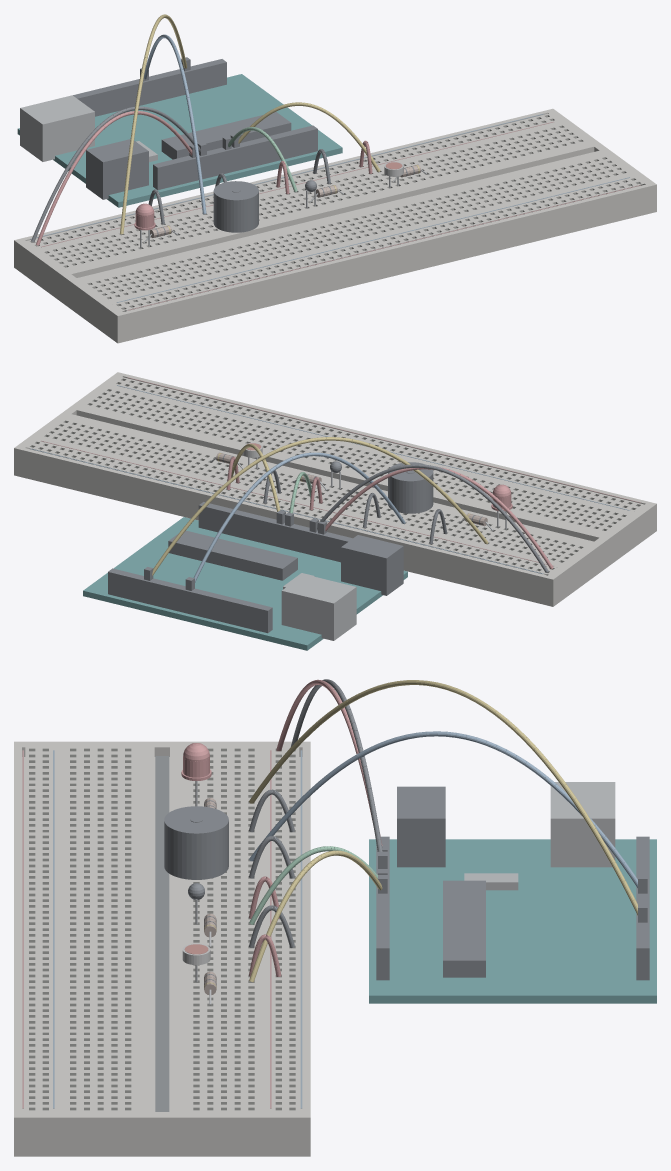
File: step-18.glb
The picture shows the model from 3 angles, top to bottom: view 1: azimuth 30°, elevation 25°; view 2: azimuth 150°, elevation 25°; view 3: azimuth 270°, elevation 25°; orthographic projection. The views are drawn at different scales.
Visible parts, largest first — view 1: breadboard_1__mesh, arduino_uno__mesh, buzzer_1__mesh, wire_led_sig__mesh, wire_main_gnd__mesh, wire_main_5v__mesh, wire_buzzer_sig__mesh, wire_ldr_sig__mesh, led_red__mesh, wire_therm_sig__mesh; view 2: breadboard_1__mesh, arduino_uno__mesh, wire_led_sig__mesh, buzzer_1__mesh, wire_buzzer_sig__mesh, wire_main_gnd__mesh, wire_main_5v__mesh, wire_ldr_sig__mesh, led_red__mesh; view 3: breadboard_1__mesh, arduino_uno__mesh, buzzer_1__mesh, wire_led_sig__mesh, wire_buzzer_sig__mesh, wire_main_gnd__mesh, wire_ldr_sig__mesh, led_red__mesh, wire_main_5v__mesh, wire_therm_sig__mesh.
Boxes of the visible parts, left/top/right/bottom form: breadboard_1__mesh: left=14, top=108, right=656, bottom=343; arduino_uno__mesh: left=17, top=59, right=342, bottom=207; buzzer_1__mesh: left=213, top=181, right=258, bottom=232; wire_led_sig__mesh: left=120, top=14, right=190, bottom=234; wire_main_gnd__mesh: left=31, top=106, right=206, bottom=242; wire_main_5v__mesh: left=36, top=111, right=198, bottom=245; wire_buzzer_sig__mesh: left=140, top=34, right=206, bottom=214; wire_ldr_sig__mesh: left=230, top=102, right=380, bottom=172; led_red__mesh: left=134, top=203, right=155, bottom=248; wire_therm_sig__mesh: left=222, top=127, right=297, bottom=192; breadboard_1__mesh: left=14, top=372, right=656, bottom=606; arduino_uno__mesh: left=83, top=502, right=407, bottom=650; wire_led_sig__mesh: left=144, top=437, right=488, bottom=580; buzzer_1__mesh: left=388, top=462, right=433, bottom=513; wire_buzzer_sig__mesh: left=185, top=452, right=405, bottom=590; wire_main_gnd__mesh: left=309, top=464, right=548, bottom=572; wire_main_5v__mesh: left=318, top=466, right=553, bottom=569; wire_ldr_sig__mesh: left=231, top=444, right=285, bottom=524; led_red__mesh: left=491, top=484, right=512, bottom=529; breadboard_1__mesh: left=14, top=741, right=310, bottom=1156; arduino_uno__mesh: left=369, top=782, right=656, bottom=1003; buzzer_1__mesh: left=164, top=806, right=228, bottom=879; wire_led_sig__mesh: left=249, top=680, right=647, bottom=922; wire_buzzer_sig__mesh: left=249, top=731, right=647, bottom=893; wire_main_gnd__mesh: left=291, top=679, right=387, bottom=868; wire_ldr_sig__mesh: left=249, top=850, right=387, bottom=982; led_red__mesh: left=181, top=743, right=211, bottom=806; wire_main_5v__mesh: left=276, top=679, right=387, bottom=851; wire_therm_sig__mesh: left=249, top=846, right=387, bottom=924.
Bounding box in the file's own units: 0.165 × 0.0463 × 0.1192.
